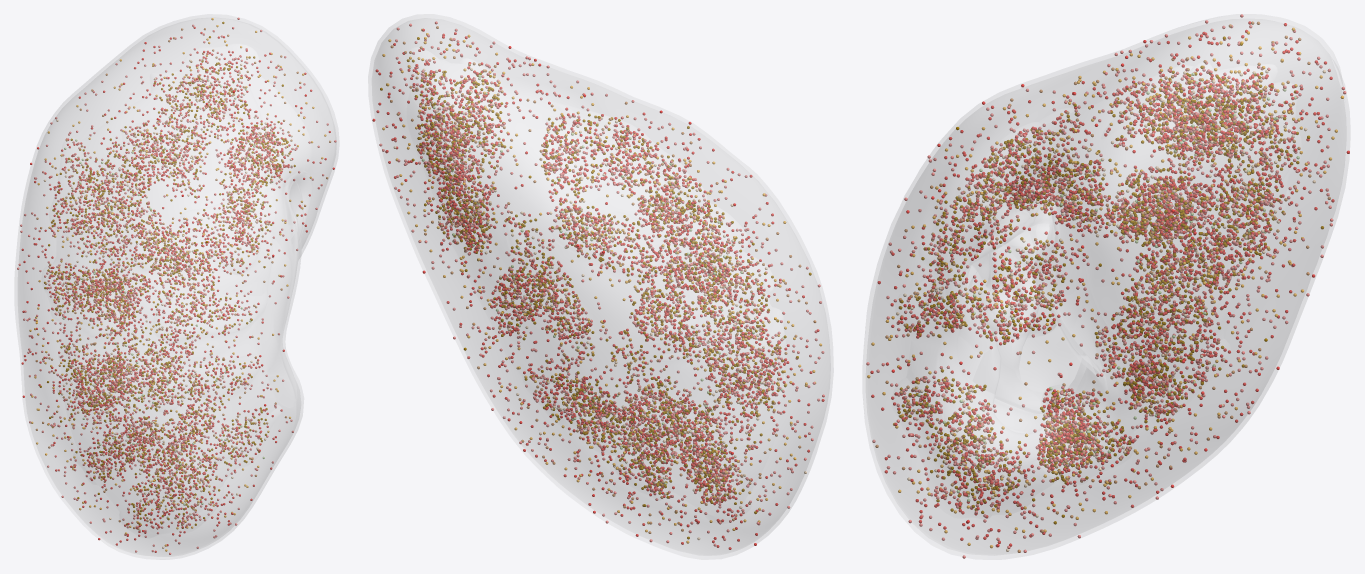
File: 3d-vh-f-kidney-r-UBERON_0004539-all-as-pan-human-azimuth-sphere-hra-pop.glb
The picture shows the model from 3 angles, left to right: view 1: azimuth 30°, elevation 25°; view 2: azimuth 150°, elevation 25°; view 3: azimuth 270°, elevation 25°; orthographic projection. The views are drawn at different scales.
Visible parts, largest first — view 1: VH_F_kidney_capsule_R, VH_F_outer_cortex_of_kidney_R, VH_F_hilum_of_kidney_R; view 2: VH_F_kidney_capsule_R, VH_F_outer_cortex_of_kidney_R; view 3: VH_F_kidney_capsule_R, VH_F_outer_cortex_of_kidney_R, VH_F_hilum_of_kidney_R, VH_F_renal_column_R, VH_F_renal_pyramid_R_h.
Boxes of the visible parts, x1=… form: VH_F_kidney_capsule_R: x1=15, y1=14, x2=338, y2=559; VH_F_outer_cortex_of_kidney_R: x1=18, y1=18, x2=334, y2=555; VH_F_hilum_of_kidney_R: x1=281, y1=171, x2=312, y2=399; VH_F_kidney_capsule_R: x1=368, y1=14, x2=833, y2=559; VH_F_outer_cortex_of_kidney_R: x1=373, y1=19, x2=828, y2=554; VH_F_kidney_capsule_R: x1=863, y1=14, x2=1349, y2=559; VH_F_outer_cortex_of_kidney_R: x1=868, y1=19, x2=1345, y2=553; VH_F_hilum_of_kidney_R: x1=935, y1=176, x2=1096, y2=467; VH_F_renal_column_R: x1=968, y1=205, x2=1085, y2=411; VH_F_renal_pyramid_R_h: x1=972, y1=247, x2=1052, y2=338.
Bounding box in the file's own units: 0.0734 × 0.0979 × 0.0695.
